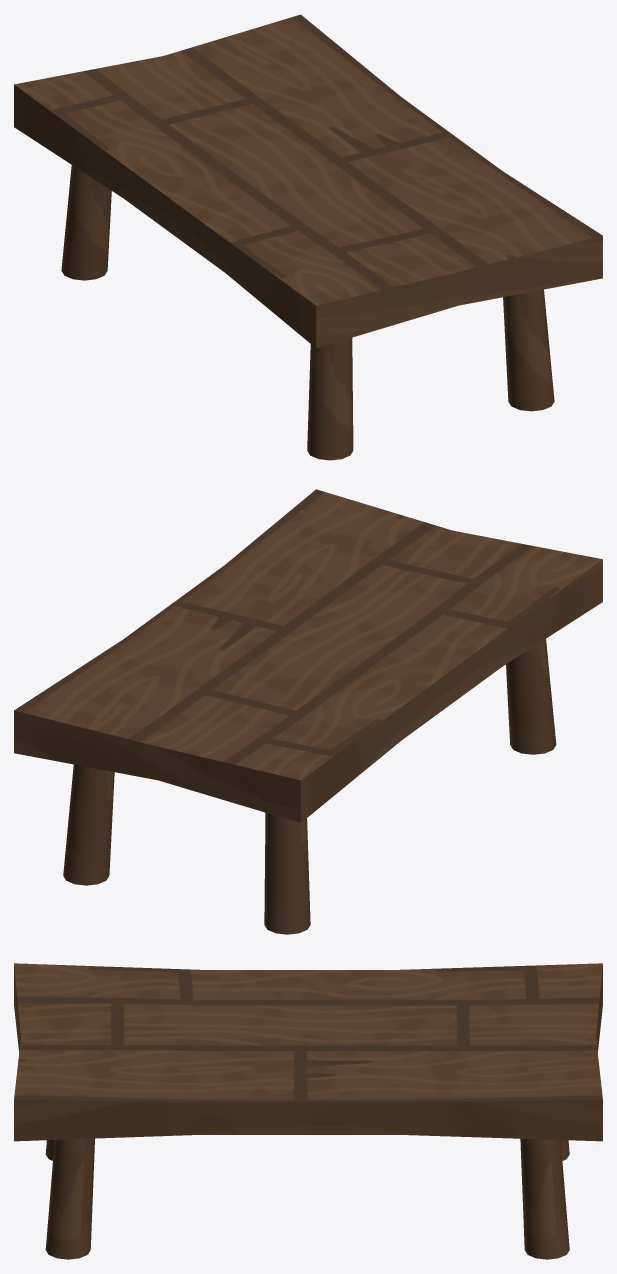
File: MSH_Table_Rect.fbx
3 renders of one model, top to bottom at view 1: azimuth 30°, elevation 25°; view 2: azimuth 150°, elevation 25°; view 3: azimuth 270°, elevation 25°, orthographic. The views are drawn at different scales.
Parts seen in each view (by area): view 1: MSH_Table_Rect; view 2: MSH_Table_Rect; view 3: MSH_Table_Rect.
Boxes of the visible parts, box(x1,y1,x2,y2) form: MSH_Table_Rect: box(14, 14, 602, 460); MSH_Table_Rect: box(14, 489, 602, 934); MSH_Table_Rect: box(14, 963, 602, 1259).
Bounding box in the file's own units: 127 × 74.32 × 232.
